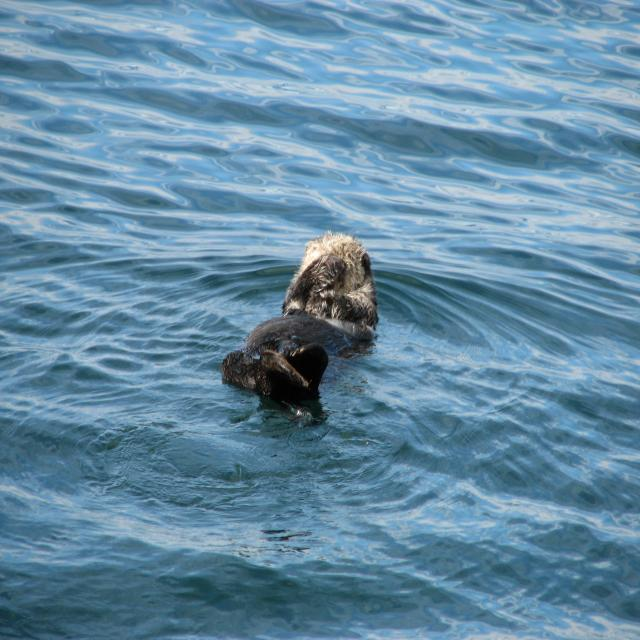otter: (222, 235, 378, 412)
